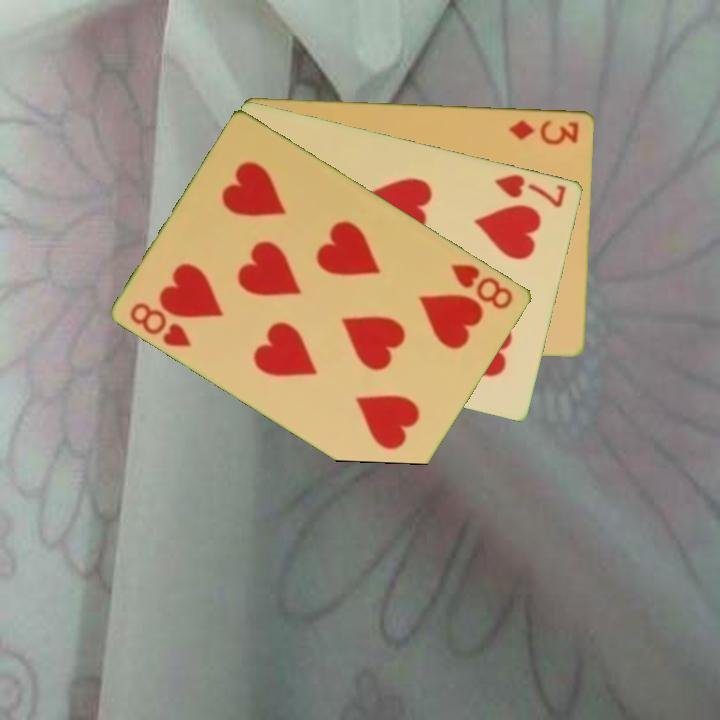3d: (505, 116, 582, 147)
7h: (491, 170, 570, 210)
8h: (447, 260, 517, 312), (126, 298, 196, 350)
